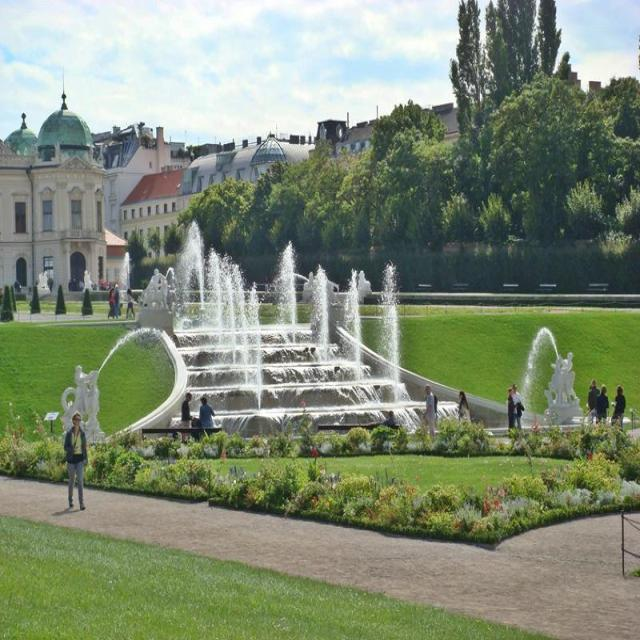body: (62, 410, 89, 511), (61, 362, 101, 426), (545, 349, 580, 408), (141, 266, 169, 312), (66, 267, 112, 289), (422, 384, 438, 439), (610, 385, 626, 428), (594, 385, 610, 426), (198, 394, 217, 428), (510, 383, 522, 430), (508, 386, 518, 440), (587, 378, 602, 412), (357, 268, 374, 298), (458, 389, 472, 422), (303, 269, 317, 301), (123, 288, 136, 320), (36, 270, 54, 293), (180, 392, 193, 422), (111, 282, 122, 316), (381, 410, 398, 431), (107, 287, 116, 320), (12, 275, 22, 296), (588, 379, 593, 390)
